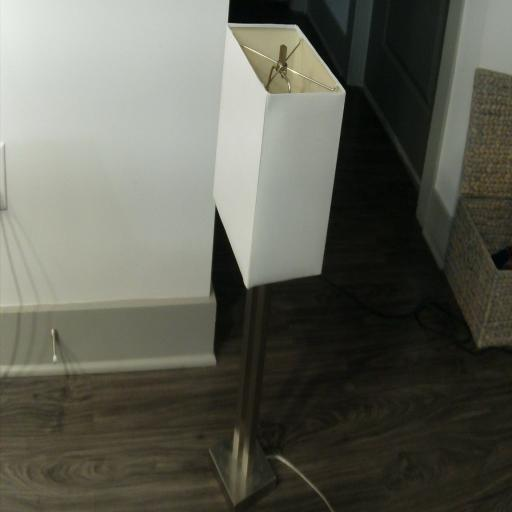lamp: (209, 21, 347, 512)
